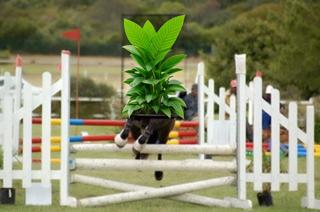horse: (116, 51, 190, 181)
pottedplant: (121, 14, 186, 118)
